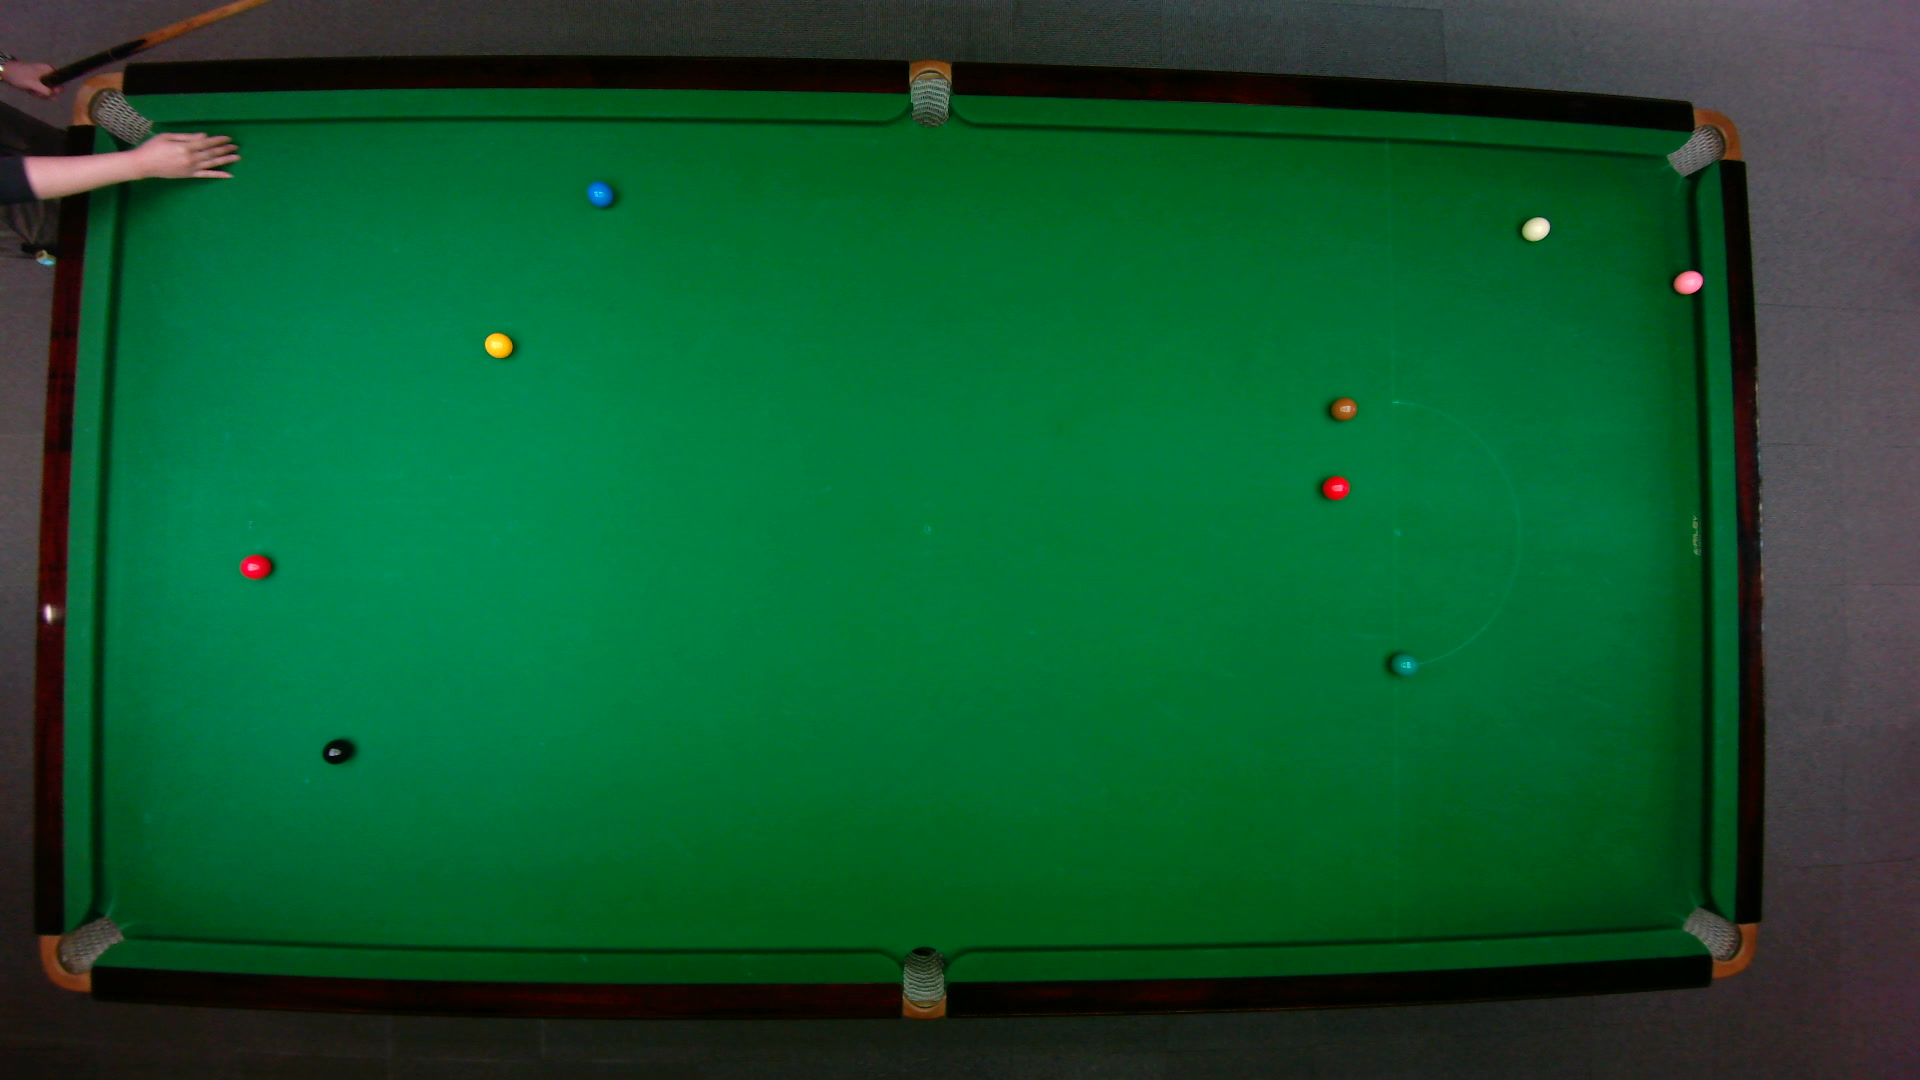bag: (69, 69, 156, 148), (37, 914, 125, 992), (1679, 905, 1756, 978), (1663, 107, 1741, 177), (901, 944, 944, 1021), (909, 57, 949, 128)
black: (320, 737, 352, 765)
blue: (585, 179, 615, 207)
brown: (1328, 396, 1358, 421)
green: (1389, 650, 1418, 676)
pink: (1671, 266, 1704, 295)
red: (237, 553, 272, 580), (1319, 473, 1352, 500)
white: (1520, 214, 1549, 241)
yellow: (481, 328, 513, 359)
zone: (1390, 400, 1520, 667)
